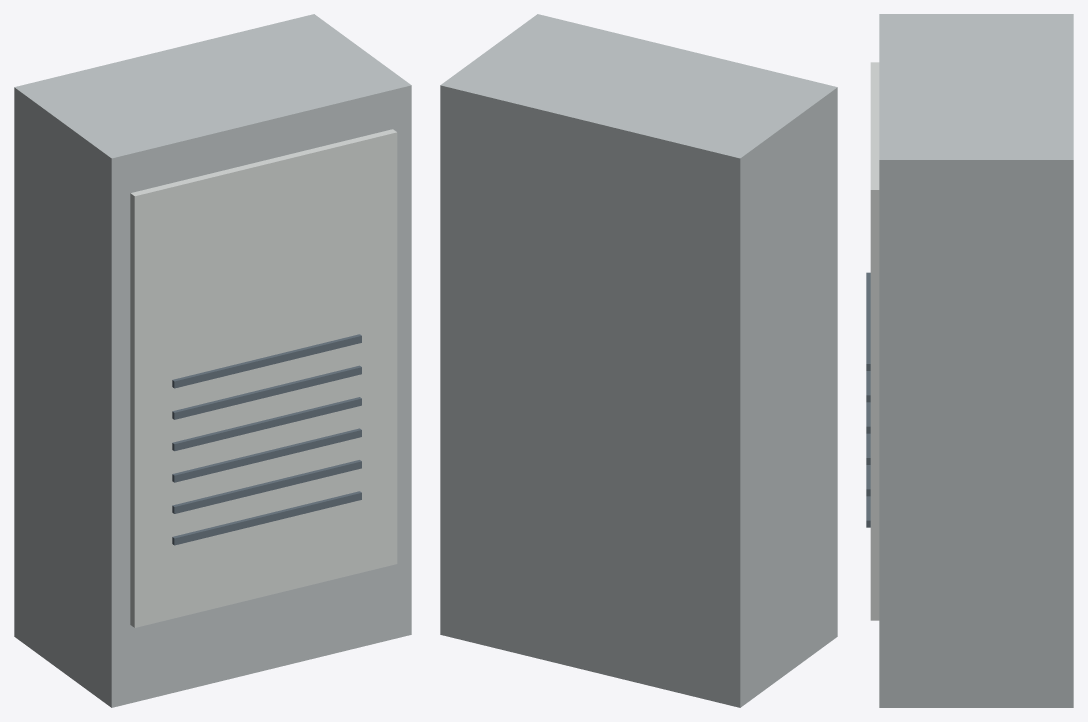
The model's file is utility_box.glb.
3 views of the same model, side by side, from view 1: azimuth 30°, elevation 25°; view 2: azimuth 150°, elevation 25°; view 3: azimuth 270°, elevation 25° (orthographic).
Parts seen in each view (by area): view 1: utility_box_000, utility_box_001, utility_box_003, utility_box_006, utility_box_005, utility_box_002, utility_box_007, utility_box_004; view 2: utility_box_000; view 3: utility_box_000, utility_box_001, utility_box_007.
Part boxes in pixels (bbox=[...]): utility_box_000: bbox=[14, 14, 411, 707]; utility_box_001: bbox=[130, 129, 397, 627]; utility_box_003: bbox=[172, 460, 361, 513]; utility_box_006: bbox=[172, 365, 361, 419]; utility_box_005: bbox=[172, 397, 361, 451]; utility_box_002: bbox=[172, 491, 361, 545]; utility_box_007: bbox=[172, 334, 361, 388]; utility_box_004: bbox=[172, 428, 361, 482]; utility_box_000: bbox=[440, 14, 837, 707]; utility_box_000: bbox=[879, 14, 1073, 707]; utility_box_001: bbox=[870, 62, 879, 620]; utility_box_007: bbox=[866, 272, 870, 370].
Bounding box in the file's own units: 0.8 × 1.4 × 0.48.
